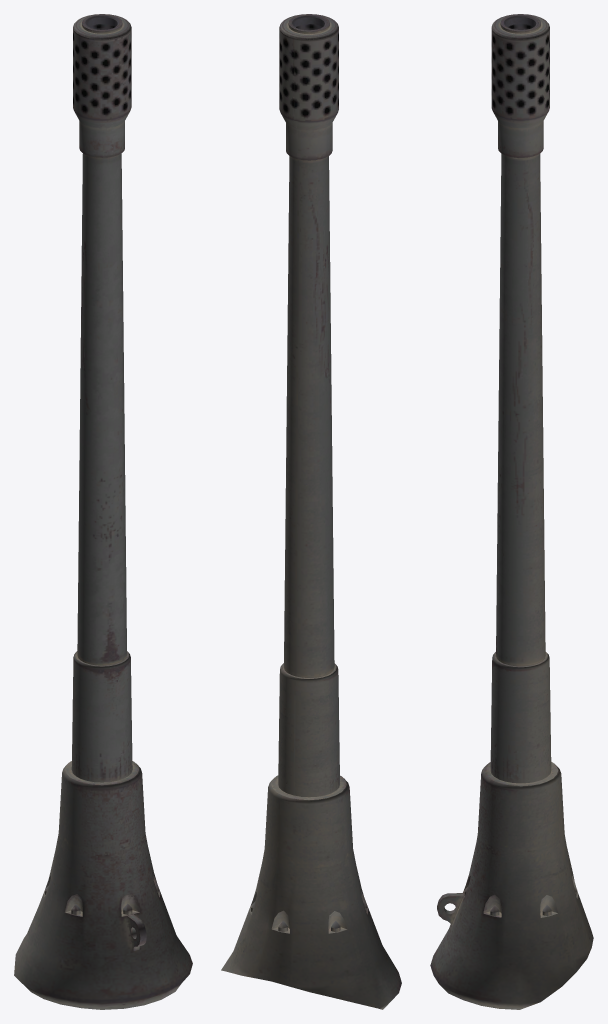
File: Gun_01.glb
3 views of the same model, side by side, from view 1: azimuth 30°, elevation 25°; view 2: azimuth 150°, elevation 25°; view 3: azimuth 270°, elevation 25° (orthographic).
Parts seen in each view (by area): view 1: set_0_group_0; view 2: set_0_group_0; view 3: set_0_group_0.
Part boxes in pixels (<box>): set_0_group_0: <box>14,14,192,1009</box>; set_0_group_0: <box>221,14,401,1009</box>; set_0_group_0: <box>430,14,593,1009</box>.
Size of the model in its own units: 1.21 by 7 by 1.09.
1 material, 1 textured.
